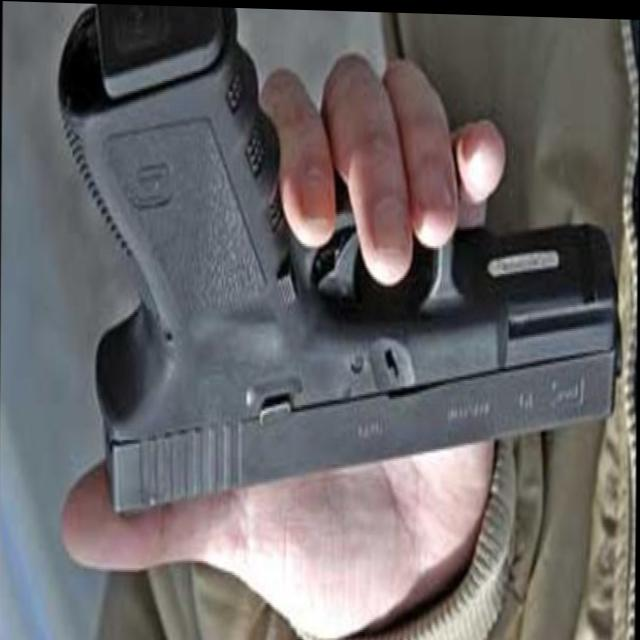handgun: (59, 10, 616, 533)
